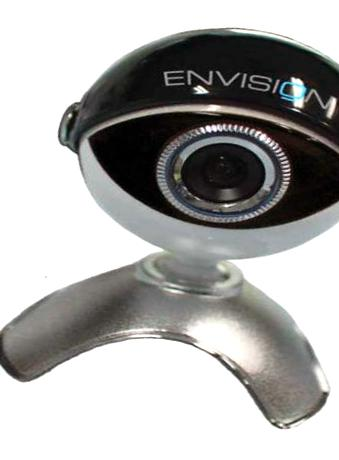webcam: (50, 16, 339, 270)
